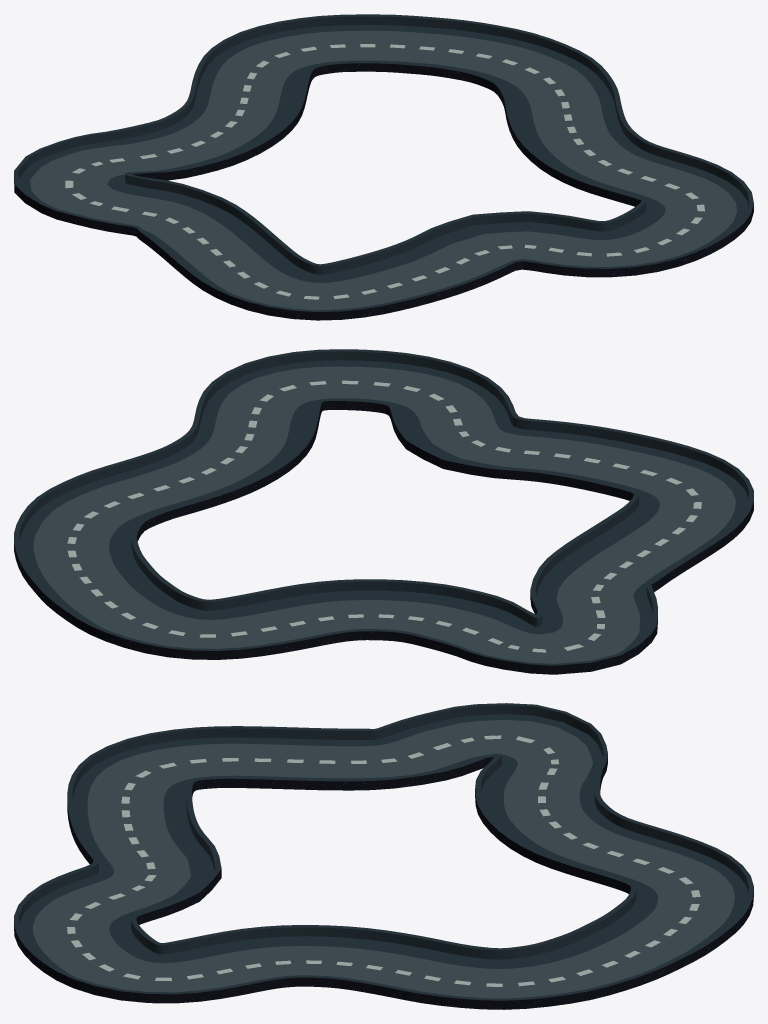
File: track.fbx
The picture shows the model from 3 angles, top to bottom: view 1: azimuth 30°, elevation 25°; view 2: azimuth 150°, elevation 25°; view 3: azimuth 270°, elevation 25°; orthographic projection. The views are drawn at different scales.
Visible parts, largest first — view 1: Plane; view 2: Plane; view 3: Plane.
Part boxes in pixels (box(x1,y1,x2,y2)): Plane: box(14, 14, 753, 320); Plane: box(14, 349, 753, 674); Plane: box(14, 703, 753, 1009).
Size of the model in its own units: 1263 by 18.34 by 1327.
